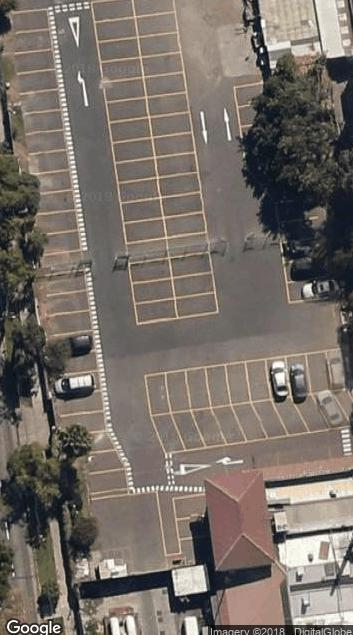parkingspot: (8, 8, 109, 438), (90, 1, 180, 328), (131, 0, 220, 321), (143, 346, 347, 418), (149, 390, 353, 456), (282, 256, 344, 305), (81, 447, 129, 496), (172, 493, 212, 542), (232, 80, 273, 110)
